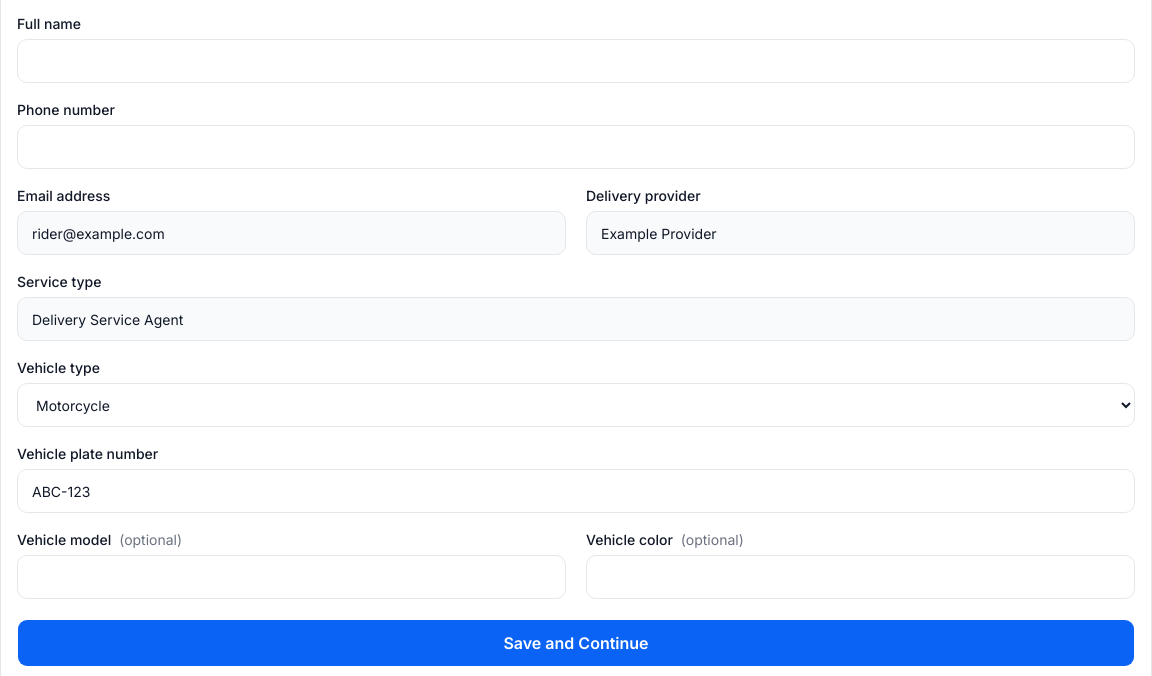
shows field errors and never saves invalid values
This screenshot has width=1152, height=676.
(page scrolled)
Check: the field labelled "Full name" is shown, box [17,39,1135,83]
Step 1. Click the button "Save and Continue" → {"x": 576, "y": 643}, box [17,619,1135,667]
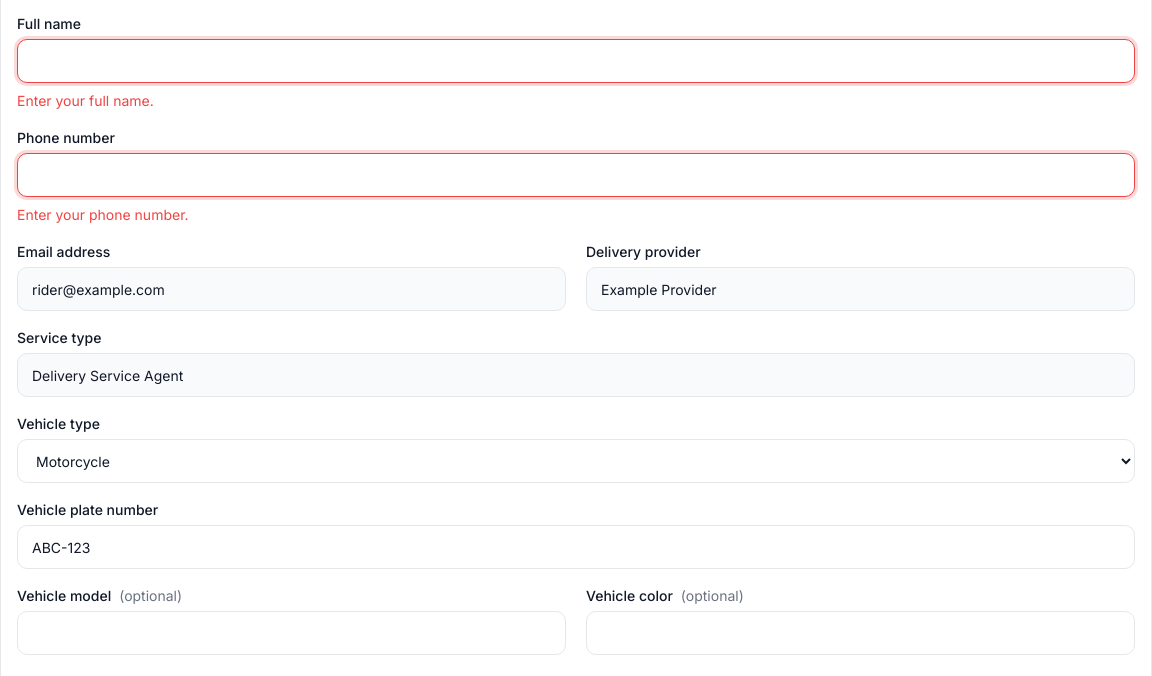
Check: the text "Enter your full name." is shown, box [17,92,154,109]
Check: the text "Enter your phone number." is shown, box [17,206,189,223]
